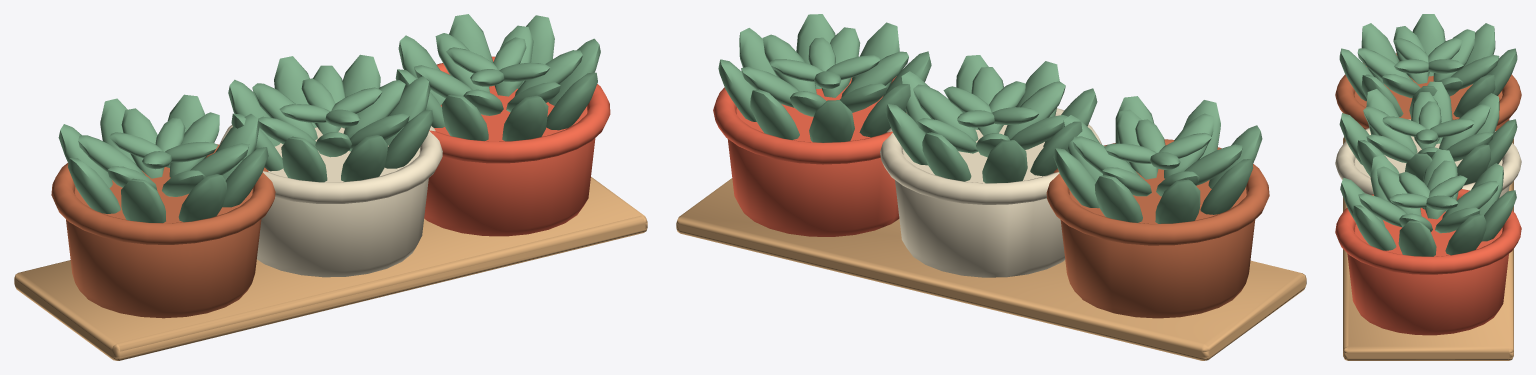
Rendered from sill_succulents.glb.
3 views of the same model, side by side, from view 1: azimuth 30°, elevation 25°; view 2: azimuth 150°, elevation 25°; view 3: azimuth 270°, elevation 25° (orthographic). The views are drawn at different scales.
Parts seen in each view (by area): view 1: SillSucculentsBody; view 2: SillSucculentsBody; view 3: SillSucculentsBody.
Part boxes in pixels (x1,y1,x2,y2): SillSucculentsBody: (14,14,647,360); SillSucculentsBody: (676,14,1306,360); SillSucculentsBody: (1335,14,1521,360).
Size of the model in its own units: 0.48 by 0.1406 by 0.1748.
